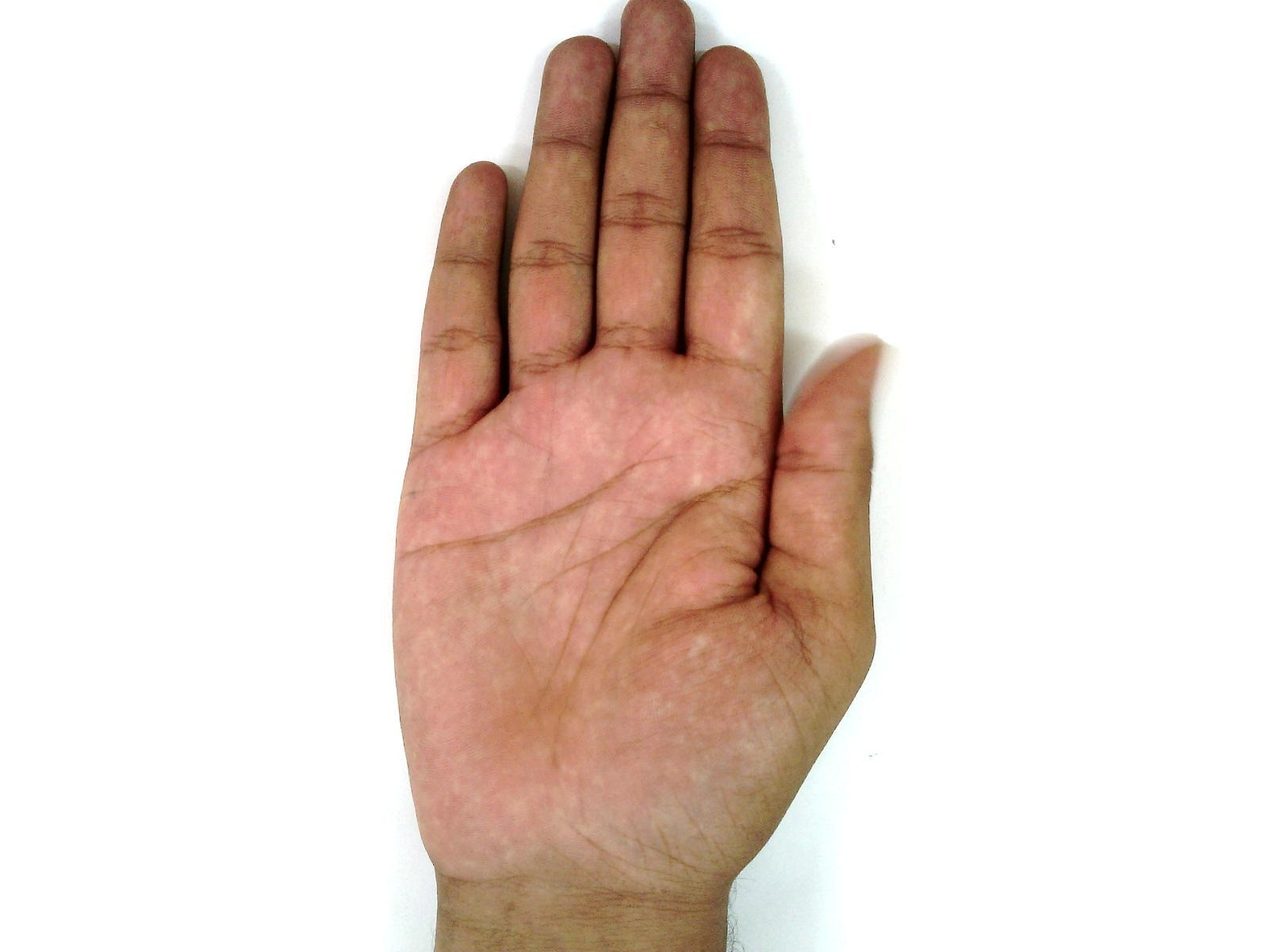open_palm: (388, 4, 895, 910)
